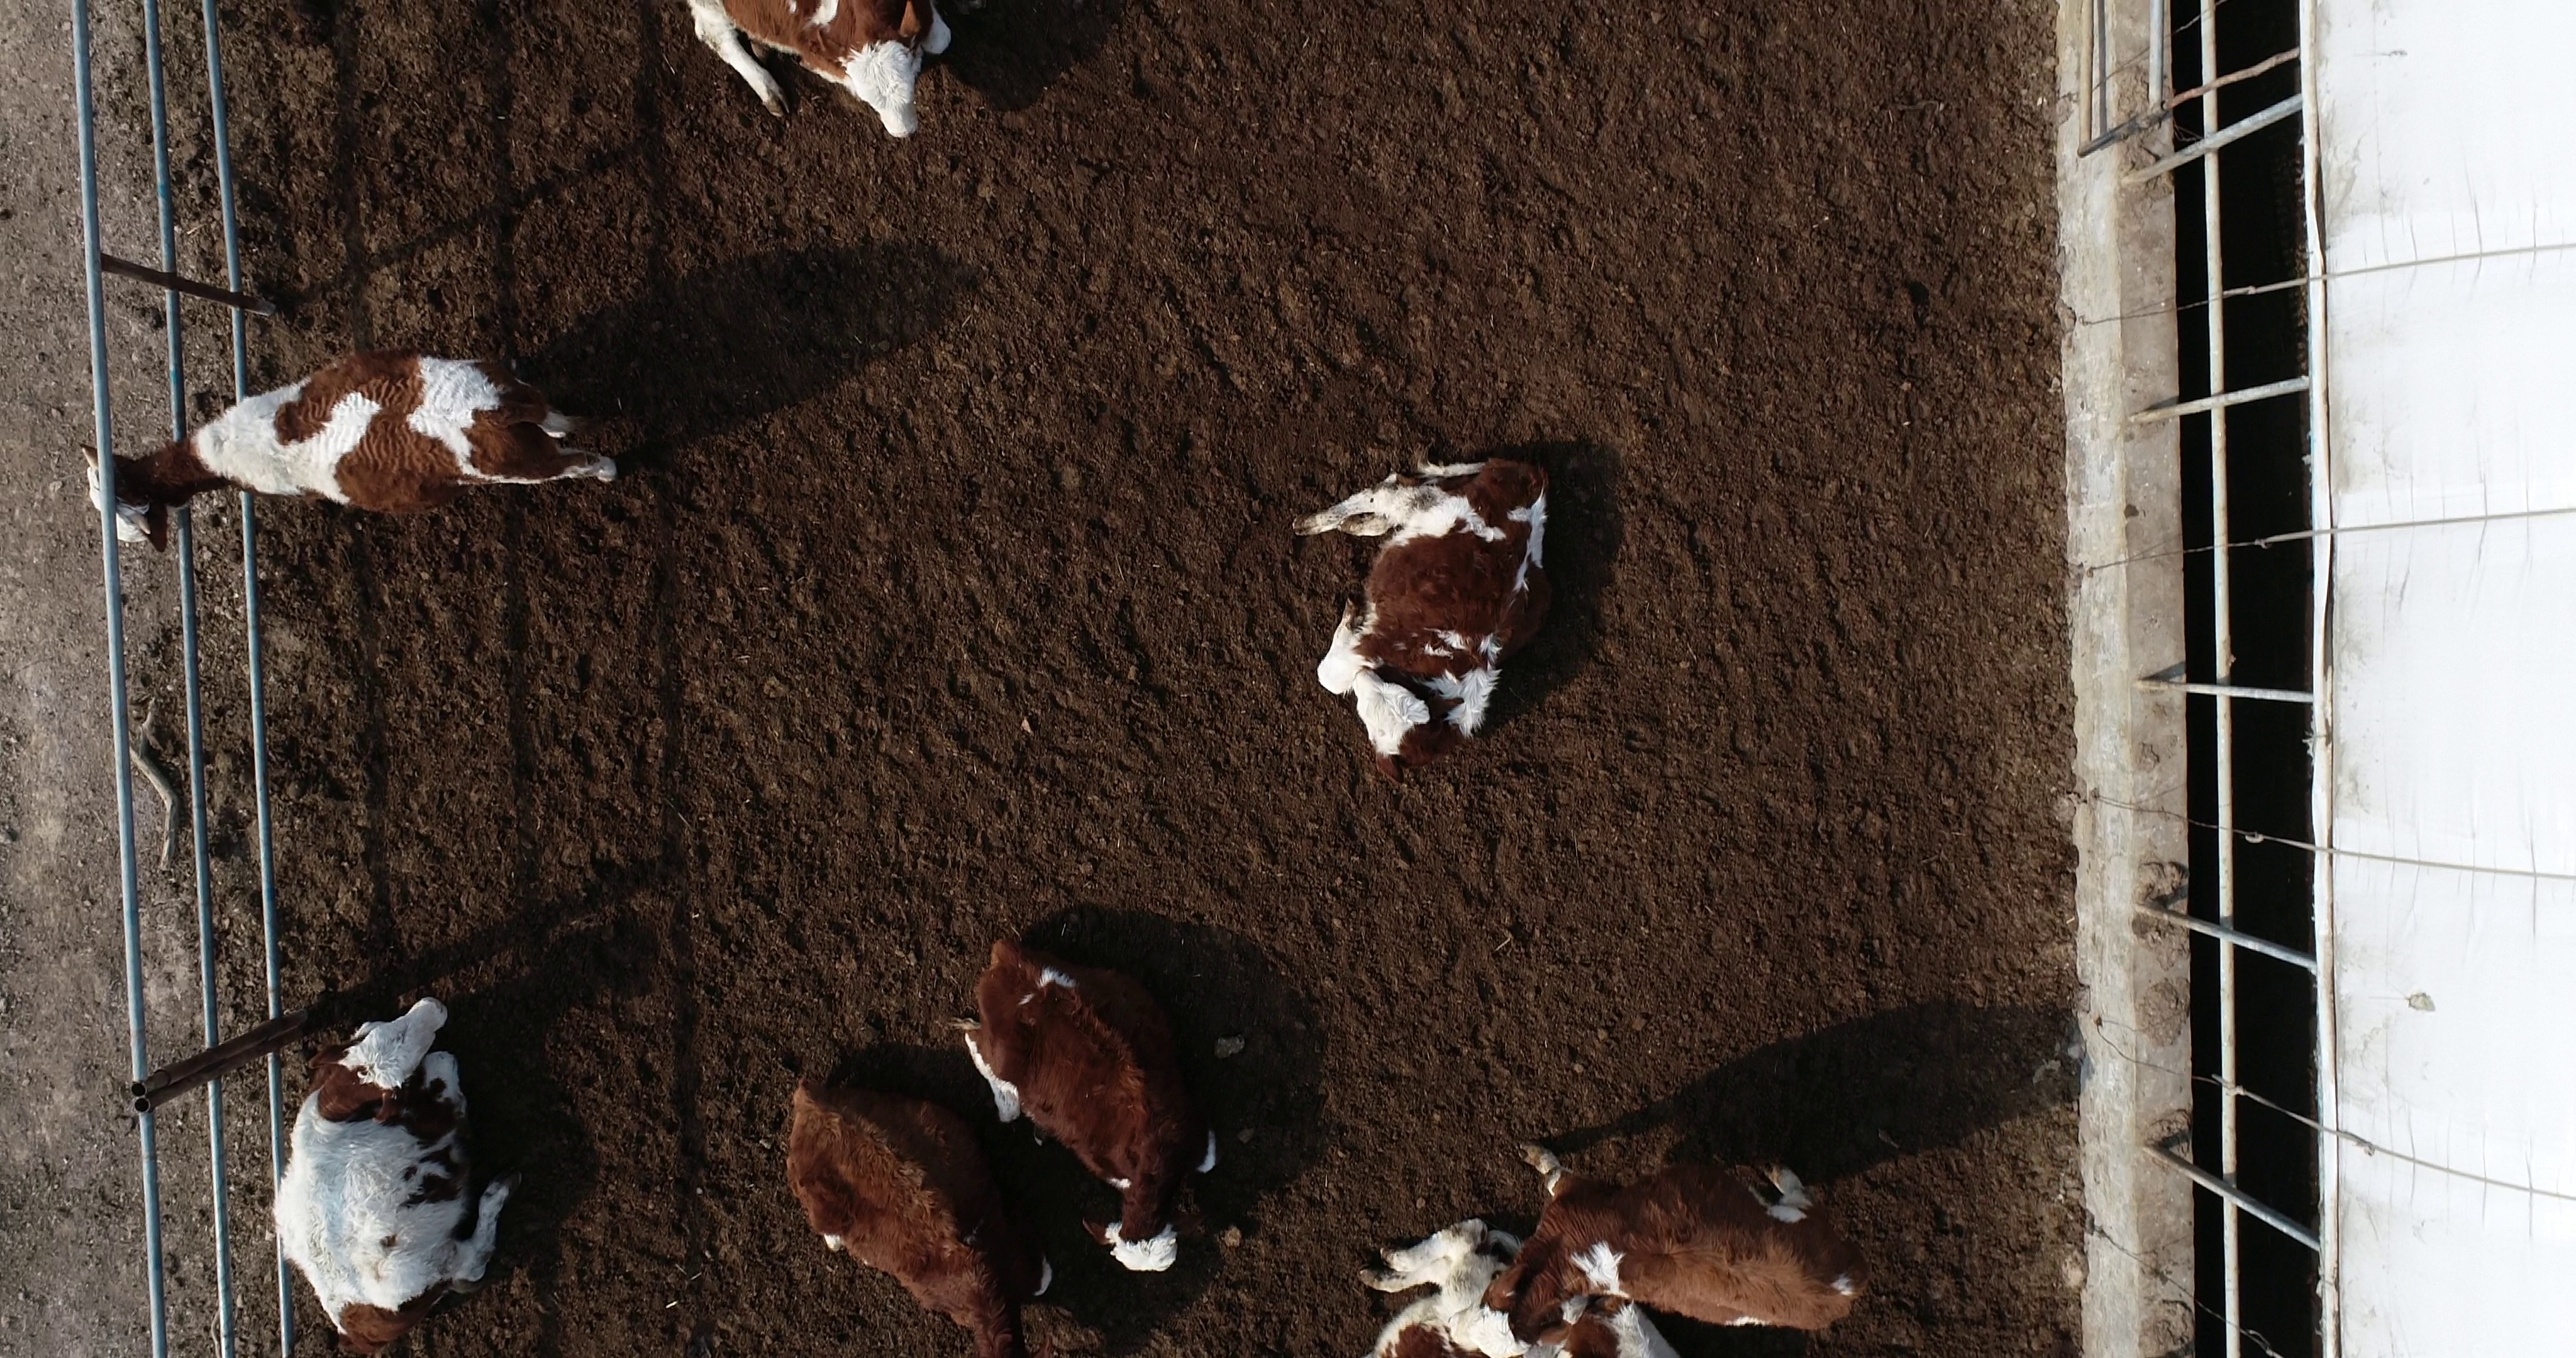cattle: (72, 348, 622, 554), (954, 930, 1232, 1283), (1452, 1133, 1877, 1355), (1281, 441, 1550, 782), (267, 988, 518, 1351), (777, 1068, 1060, 1358)
